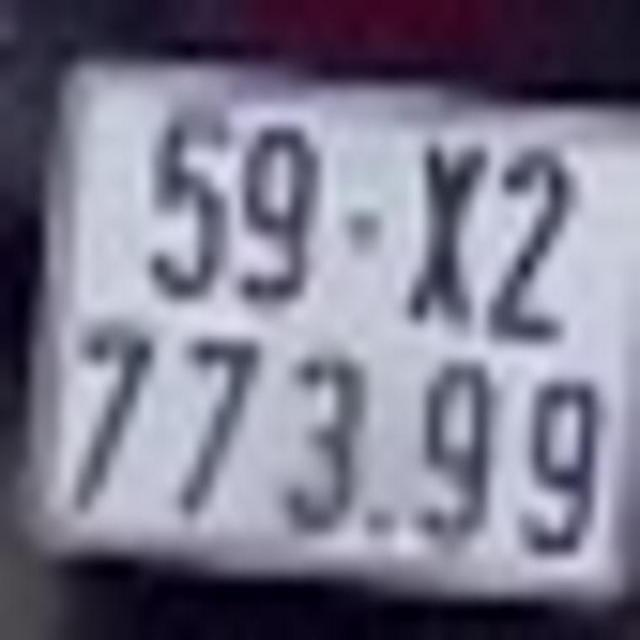2: (492, 127, 568, 344)
3: (282, 336, 356, 540)
5: (150, 90, 224, 304)
7: (172, 320, 262, 521), (67, 306, 149, 514)
9: (419, 349, 496, 556), (234, 116, 313, 306), (524, 363, 600, 560)
X: (410, 129, 483, 330)
